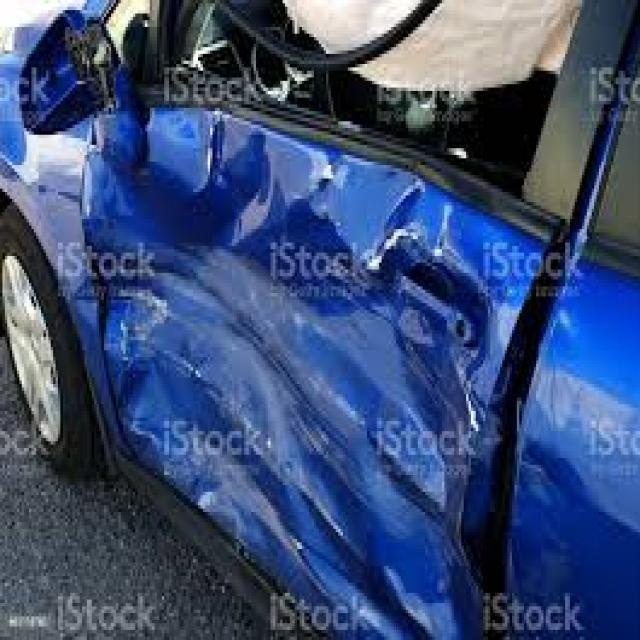damaged-door: (92, 0, 640, 640)
